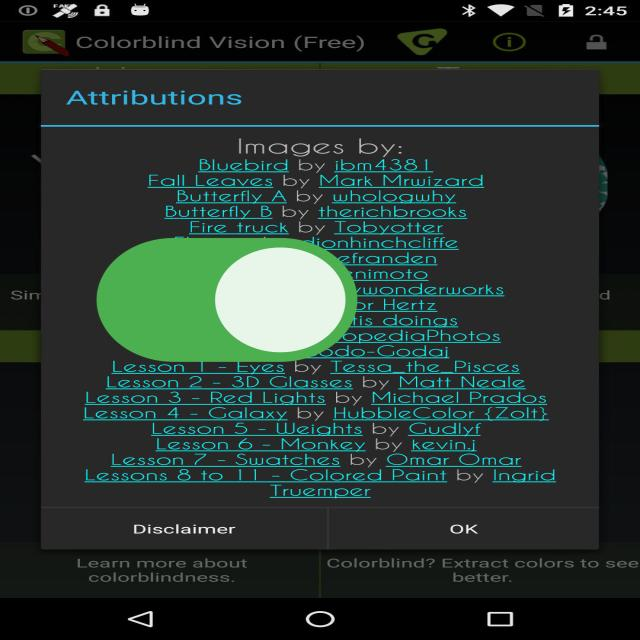social proof: (85, 190, 369, 419)
